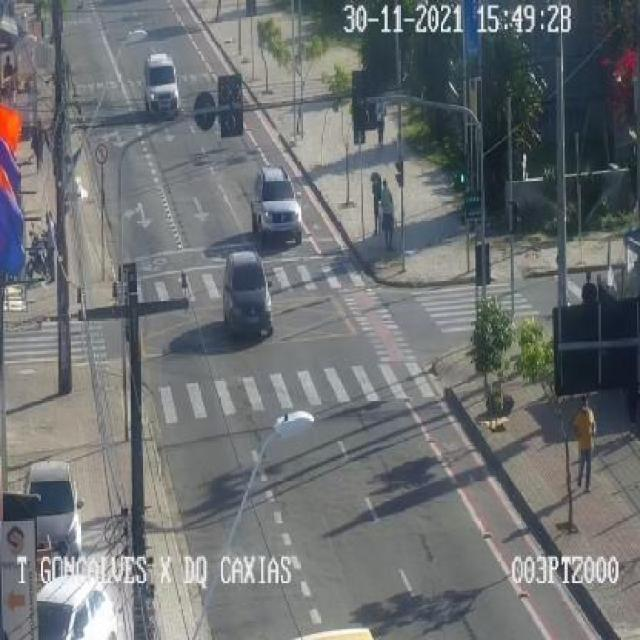Car: (8, 452, 88, 566), (8, 564, 118, 640), (218, 237, 290, 347), (238, 147, 314, 251), (131, 49, 189, 124)
